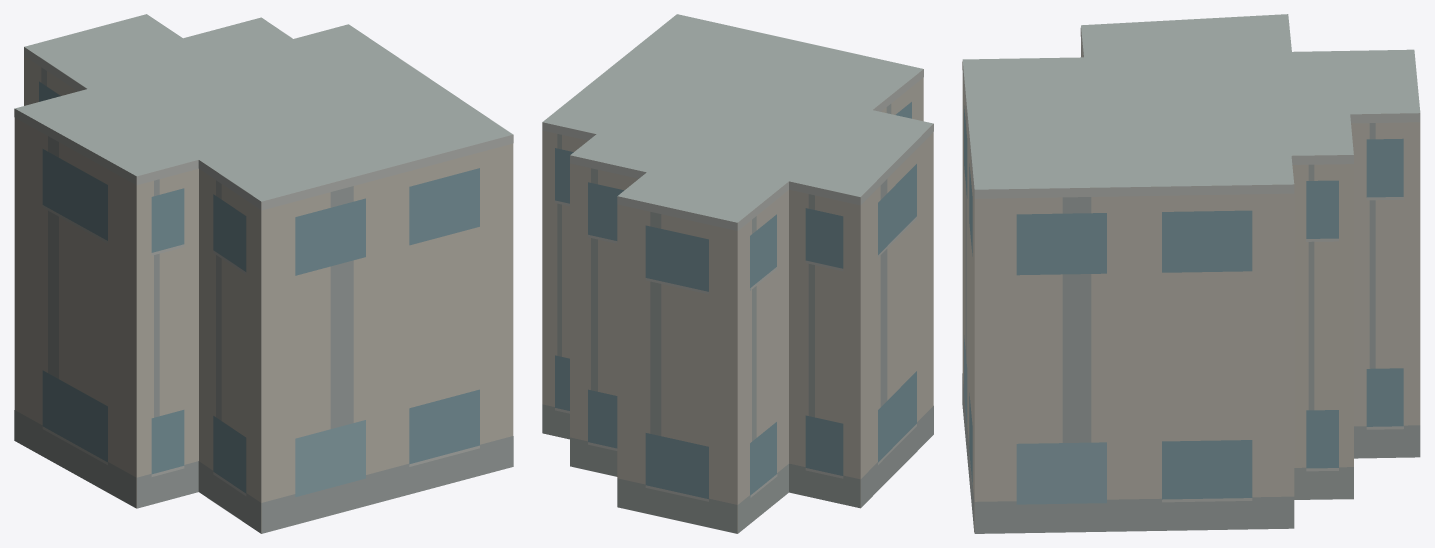
Rendered from residential-3a630386-10f0-4117-af09-6719cfd15e34.glb.
The picture shows the model from 3 angles, left to right: view 1: azimuth 30°, elevation 25°; view 2: azimuth 150°, elevation 25°; view 3: azimuth 270°, elevation 25°; orthographic projection. The views are drawn at different scales.
Parts seen in each view (by area): view 1: residential-3a630386-10f0-4117-af09-6719cfd15e34.tmp; view 2: residential-3a630386-10f0-4117-af09-6719cfd15e34.tmp; view 3: residential-3a630386-10f0-4117-af09-6719cfd15e34.tmp.
Boxes of the visible parts, x1,y1,x2,y2 form: residential-3a630386-10f0-4117-af09-6719cfd15e34.tmp: [14, 14, 513, 533]; residential-3a630386-10f0-4117-af09-6719cfd15e34.tmp: [542, 14, 933, 533]; residential-3a630386-10f0-4117-af09-6719cfd15e34.tmp: [962, 14, 1420, 533].
Bounding box in the file's own units: 10.03 × 9.15 × 11.04.
